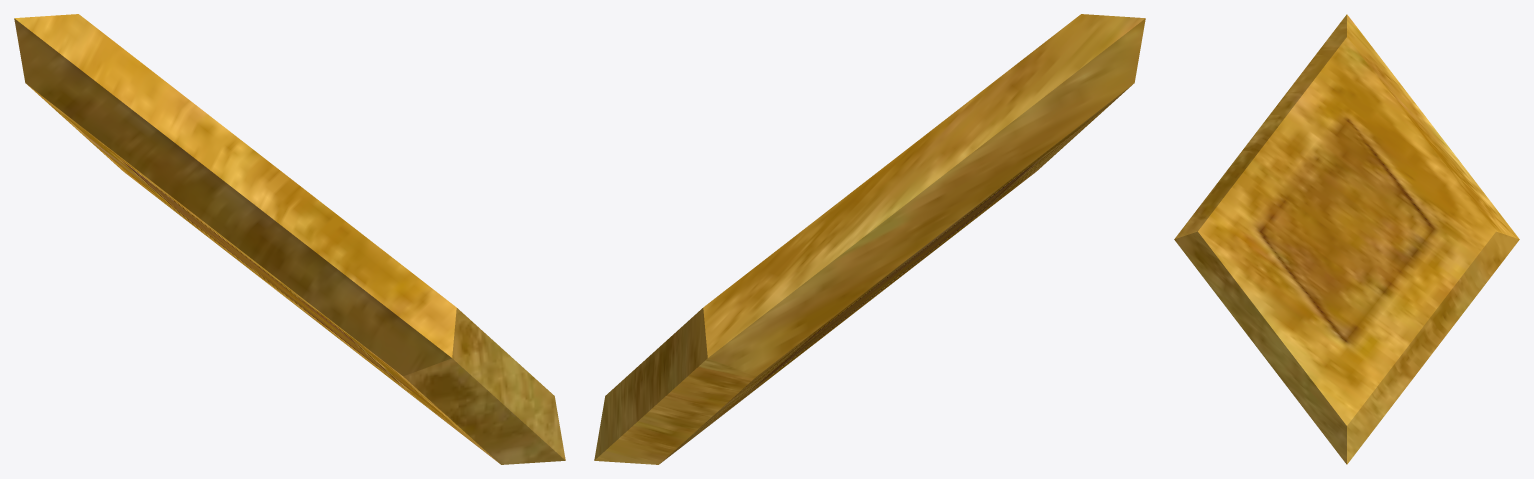
3 renders of one model, left to right at view 1: azimuth 30°, elevation 25°; view 2: azimuth 150°, elevation 25°; view 3: azimuth 270°, elevation 25°, orthographic. The views are drawn at different scales.
Parts seen in each view (by area): view 1: SM_Dragonkin_Pipe_Union_01_v2_LOD0; view 2: SM_Dragonkin_Pipe_Union_01_v2_LOD0; view 3: SM_Dragonkin_Pipe_Union_01_v2_LOD0.
Boxes of the visible parts, x1,y1,x2,y2 form: SM_Dragonkin_Pipe_Union_01_v2_LOD0: (14, 14, 565, 464); SM_Dragonkin_Pipe_Union_01_v2_LOD0: (594, 14, 1145, 464); SM_Dragonkin_Pipe_Union_01_v2_LOD0: (1174, 14, 1519, 464).
Bounding box in the file's own units: 0.6711 × 0.6711 × 0.6836.
Materials: 1 (1 with a texture image).
